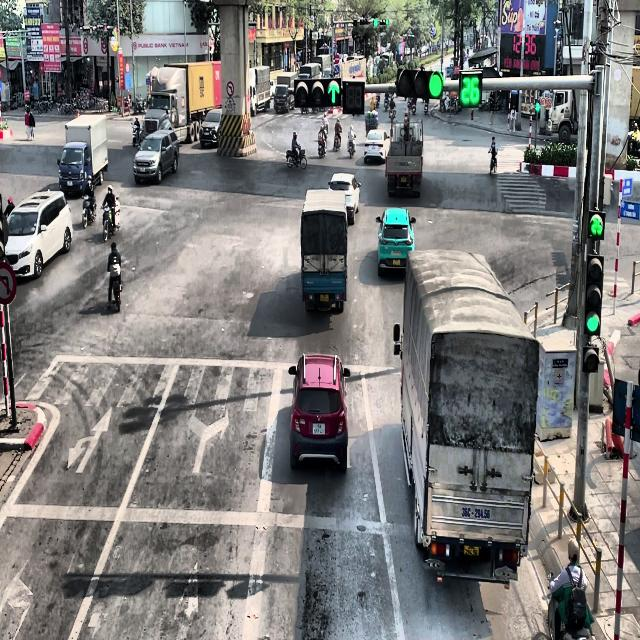lisence_plate: (459, 69, 483, 107), (460, 504, 491, 521), (462, 542, 481, 558), (311, 421, 326, 436), (318, 292, 329, 304), (391, 257, 402, 266), (399, 160, 409, 167), (400, 175, 407, 183), (371, 143, 376, 150)
